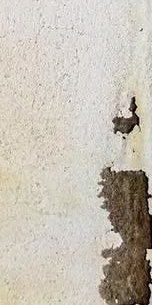Spalling: (96, 166, 152, 305), (111, 96, 142, 139)
